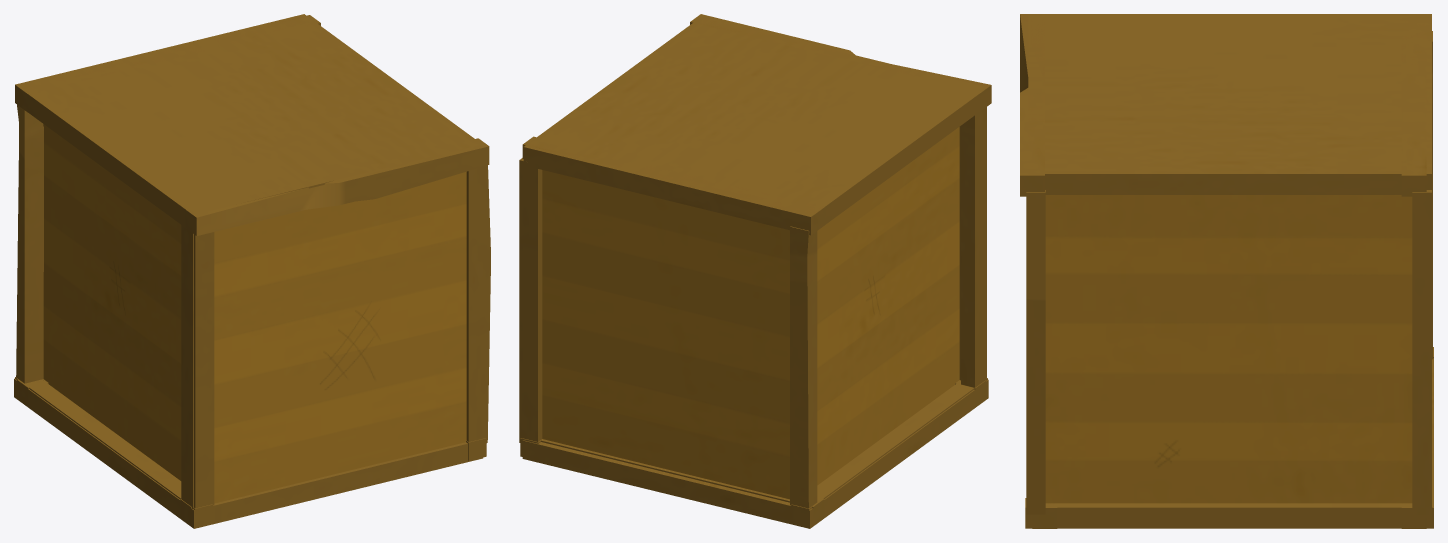
3 views of the same model, side by side, from view 1: azimuth 30°, elevation 25°; view 2: azimuth 150°, elevation 25°; view 3: azimuth 270°, elevation 25° (orthographic). The views are drawn at different scales.
Visible parts, largest first — view 1: group12_pasted__group10_pasted__pasted__group9_pasted__paste; view 2: group12_pasted__group10_pasted__pasted__group9_pasted__paste; view 3: group12_pasted__group10_pasted__pasted__group9_pasted__paste.
Boxes of the visible parts, x1,y1,x2,y2 form: group12_pasted__group10_pasted__pasted__group9_pasted__paste: (14, 14, 490, 528); group12_pasted__group10_pasted__pasted__group9_pasted__paste: (519, 14, 991, 528); group12_pasted__group10_pasted__pasted__group9_pasted__paste: (1020, 14, 1433, 528).
Size of the model in its own units: 22.52 by 22.58 by 23.88.
1 material, 1 textured.
